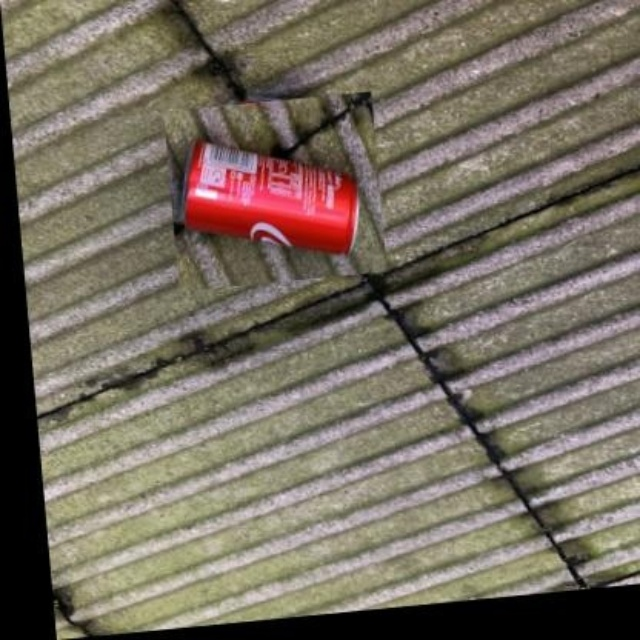trash: (185, 140, 357, 252)
